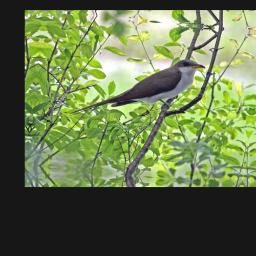Cuckoo: (71, 48, 208, 130)
